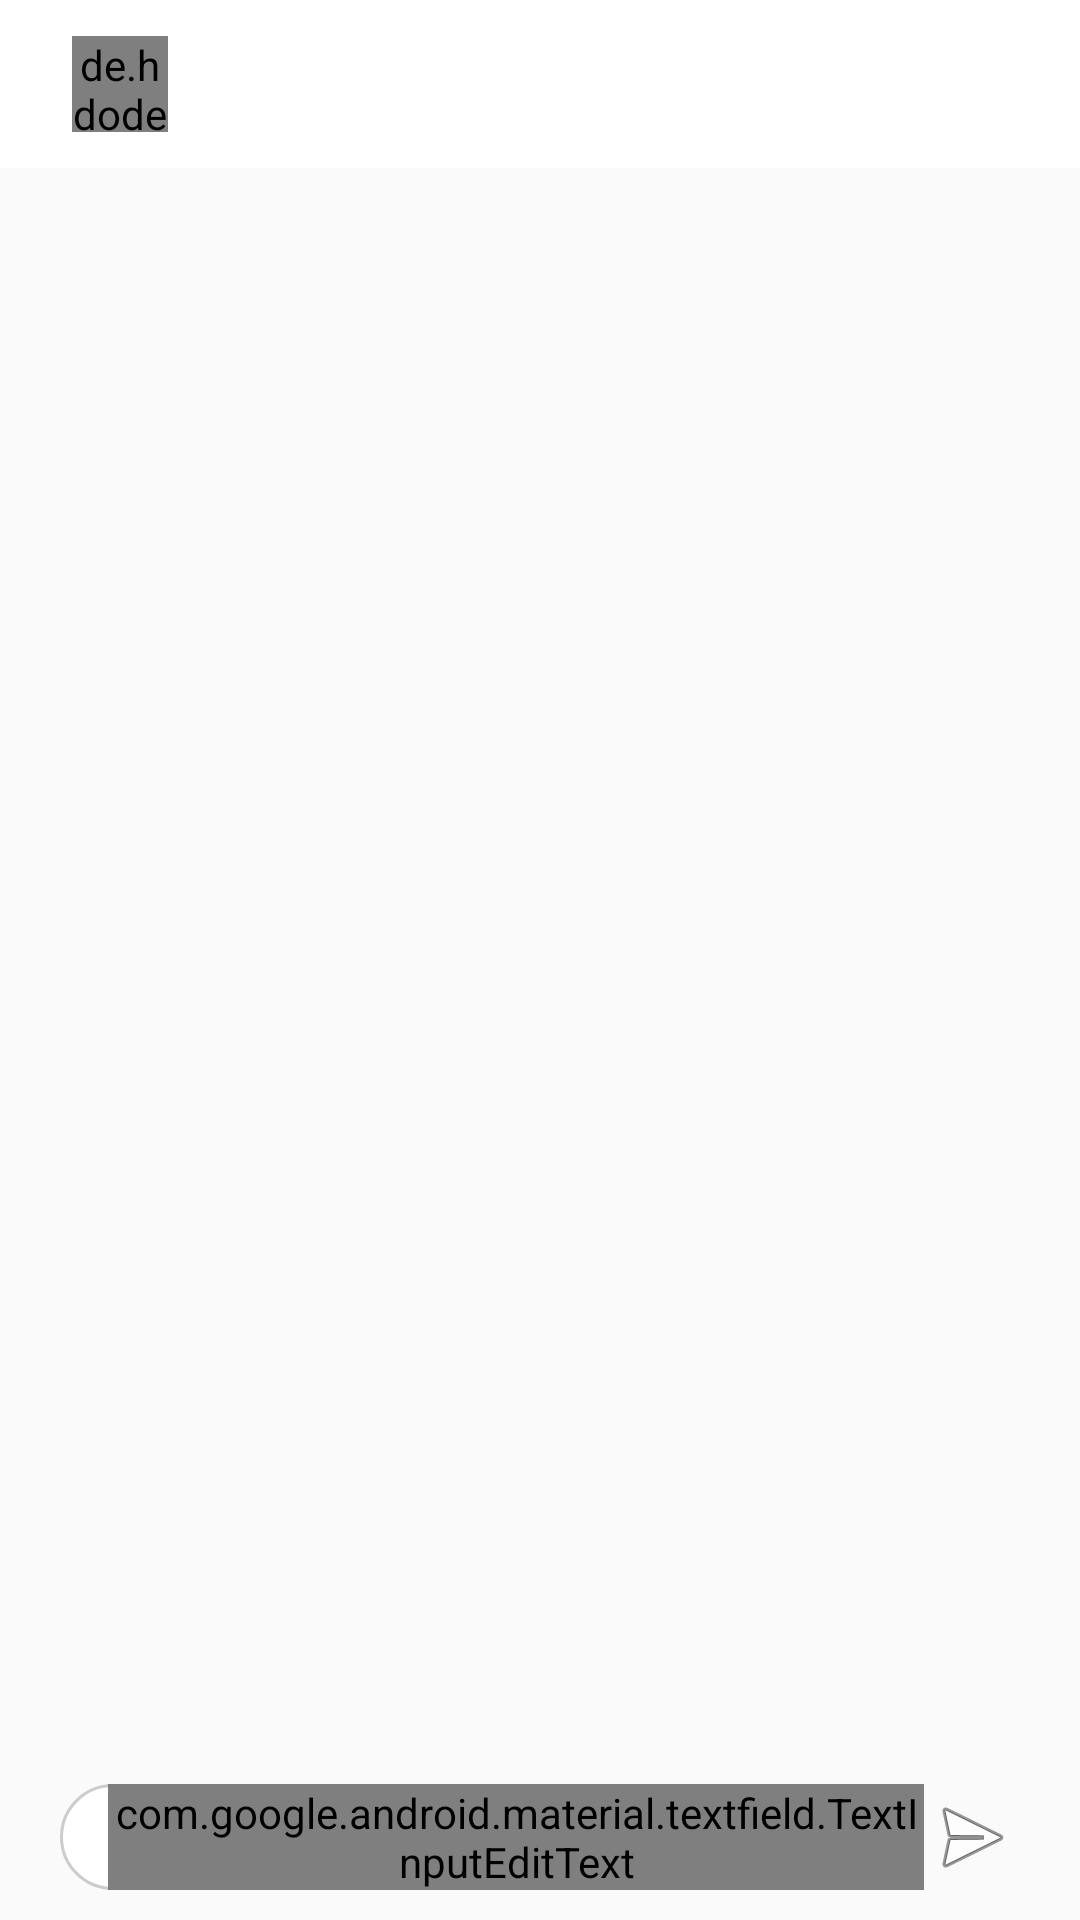

Icon click points for this 1080 x 1920 phone screenshot, format point (x, y):
send: point (973, 1837)
